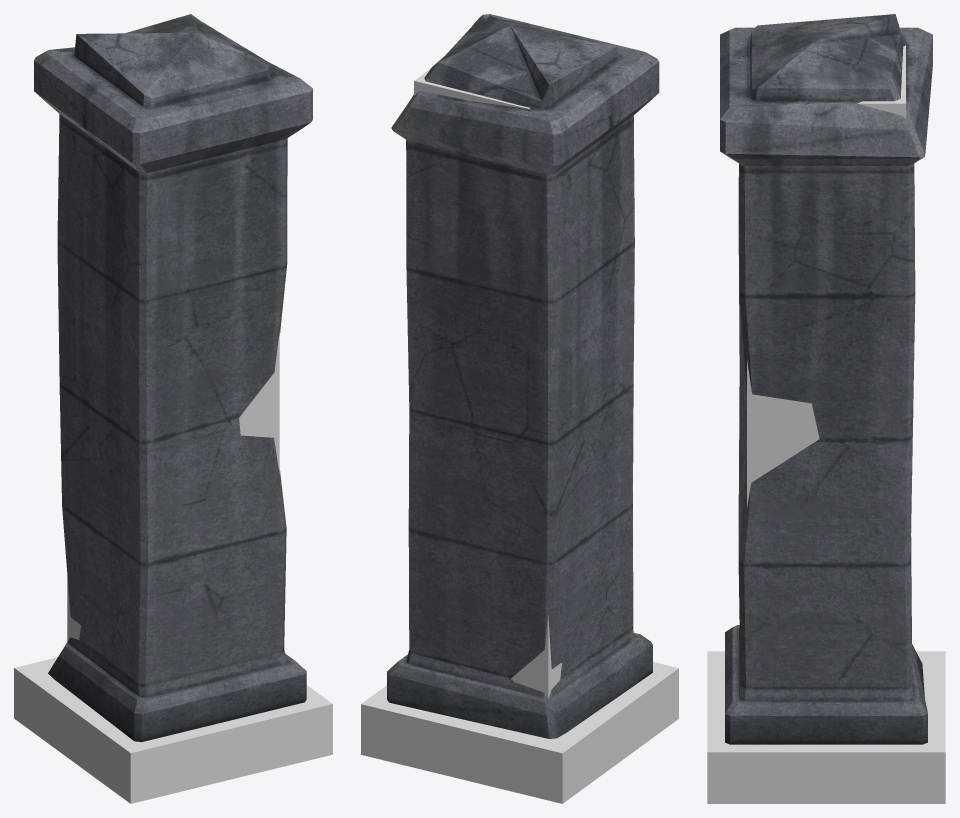
Rendered from pillar_square.low.webp.glb.
The picture shows the model from 3 angles, left to right: view 1: azimuth 30°, elevation 25°; view 2: azimuth 150°, elevation 25°; view 3: azimuth 270°, elevation 25°; orthographic projection. The views are drawn at different scales.
Parts seen in each view (by area): view 1: FRAC_0.L1, FRAC_2.L1, FRAC_1.L1, FRAC_3.L1, COL; view 2: FRAC_0.L1, FRAC_2.L1, FRAC_1.L1, FRAC_3.L1, COL; view 3: FRAC_0.L1, FRAC_3.L1, FRAC_2.L1, FRAC_1.L1, COL.
Boxes of the visible parts, x1,y1,x2,y2 form: FRAC_0.L1: (48, 458, 306, 742); FRAC_2.L1: (57, 119, 287, 347); FRAC_1.L1: (58, 289, 282, 516); FRAC_3.L1: (34, 14, 312, 178); COL: (14, 331, 332, 803); FRAC_0.L1: (387, 458, 652, 738); FRAC_2.L1: (406, 121, 634, 349); FRAC_1.L1: (407, 290, 634, 516); FRAC_3.L1: (391, 14, 659, 180); COL: (361, 69, 678, 803); FRAC_0.L1: (725, 447, 927, 744); FRAC_3.L1: (720, 14, 932, 171); FRAC_2.L1: (738, 163, 915, 343); FRAC_1.L1: (739, 278, 914, 516); COL: (707, 45, 945, 803).
Size of what is drawn, in the model's own units: 1.5 by 5 by 1.5.
1 material, 1 textured.
